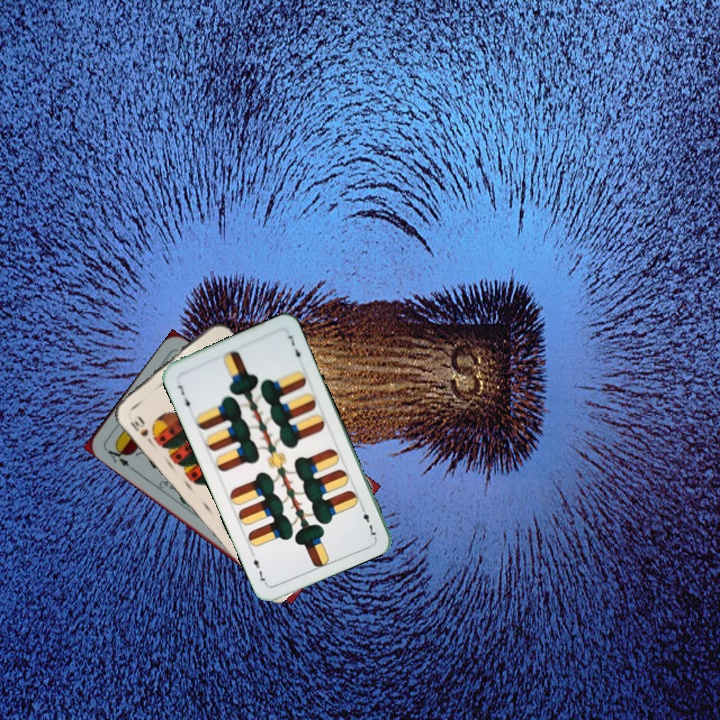E7: (356, 501, 379, 540), (174, 381, 193, 414)
EA: (101, 442, 132, 469)
S10: (126, 413, 155, 446)
